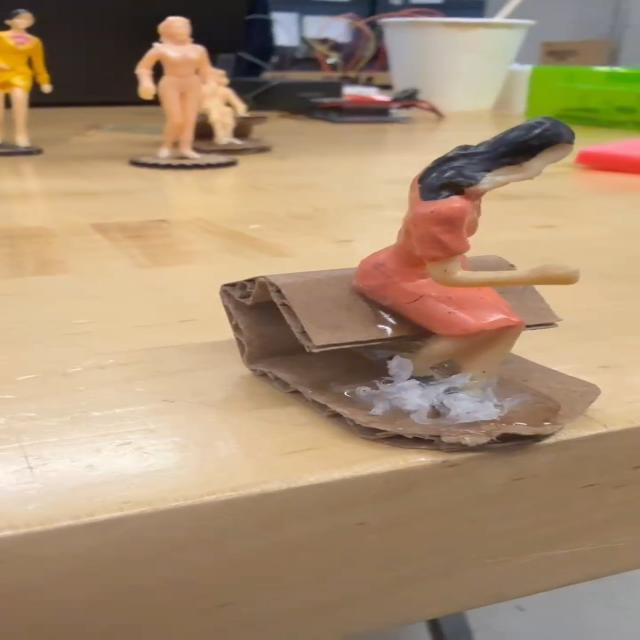Authorized: (351, 107, 584, 419)
